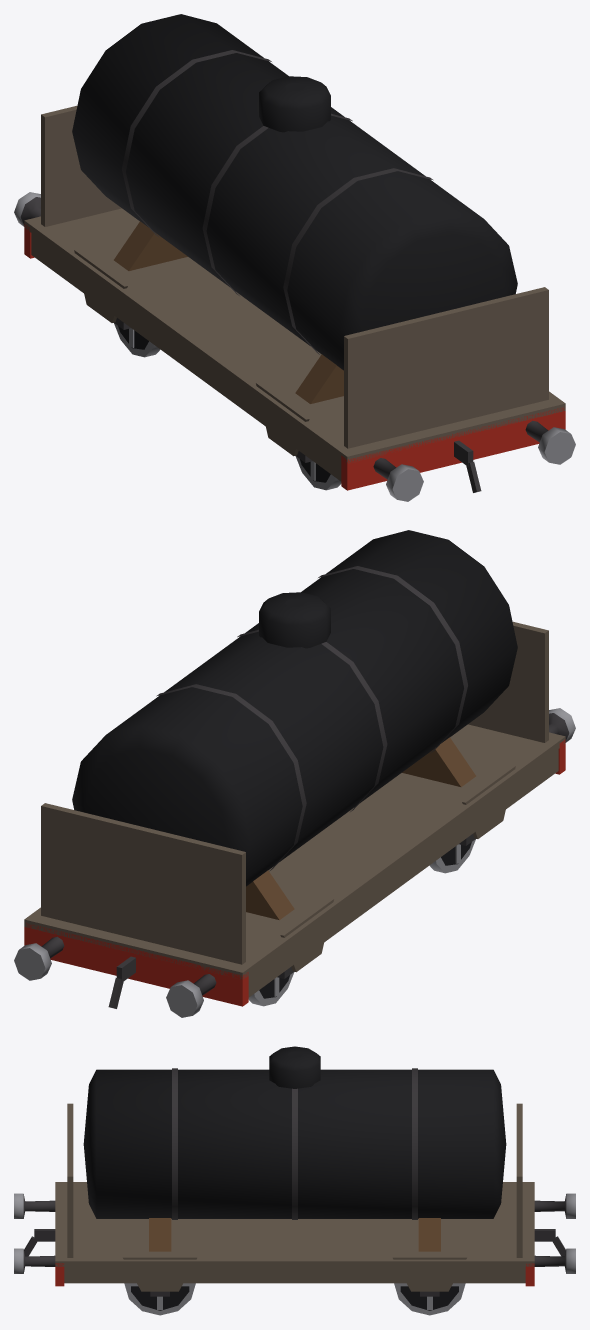
The model's file is wagon_tank.glb.
3 views of the same model, one above another, from view 1: azimuth 30°, elevation 25°; view 2: azimuth 150°, elevation 25°; view 3: azimuth 270°, elevation 25° (orthographic). The views are drawn at different scales.
Parts seen in each view (by area): view 1: Body, Wheel1, Wheel2; view 2: Body, Wheel1, Wheel2; view 3: Body, Wheel1, Wheel2.
Part boxes in pixels (<box>): Body: <box>14,14,575,501</box>; Wheel1: <box>114,323,160,357</box>; Wheel2: <box>295,456,341,490</box>; Body: <box>14,530,575,1017</box>; Wheel1: <box>248,972,294,1006</box>; Wheel2: <box>429,839,475,873</box>; Body: <box>14,1046,575,1296</box>; Wheel1: <box>394,1283,465,1315</box>; Wheel2: <box>124,1283,195,1315</box>.
Bounding box in the file's own units: 2.5 × 3.46 × 7.5.
